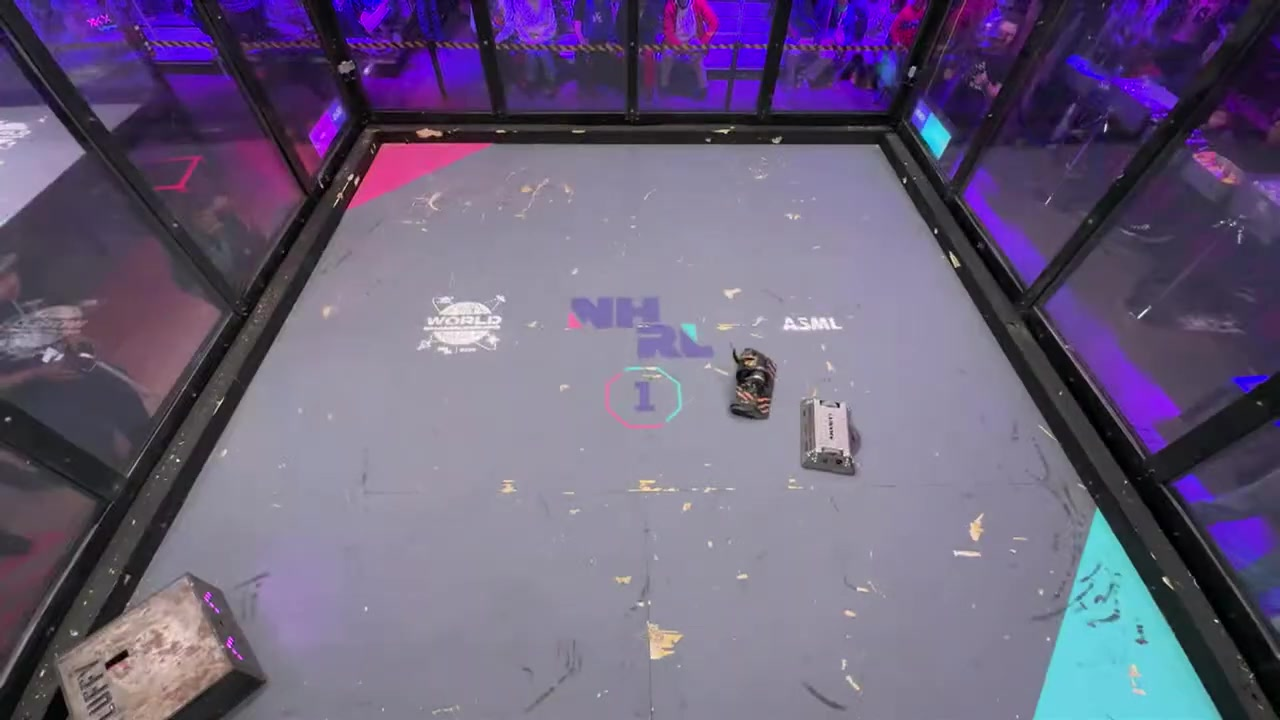combatbot: (801, 399, 857, 476), (729, 349, 774, 420)
housebot: (53, 572, 267, 720)
